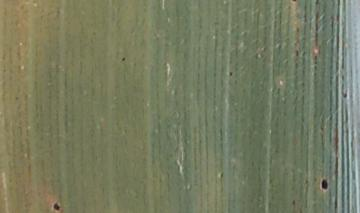tarspot: (340, 81, 349, 99), (319, 177, 329, 191), (52, 201, 61, 212), (290, 197, 297, 206), (120, 55, 126, 64), (227, 70, 234, 77), (13, 95, 21, 101), (294, 48, 299, 57), (313, 1, 319, 6), (290, 1, 299, 3)
